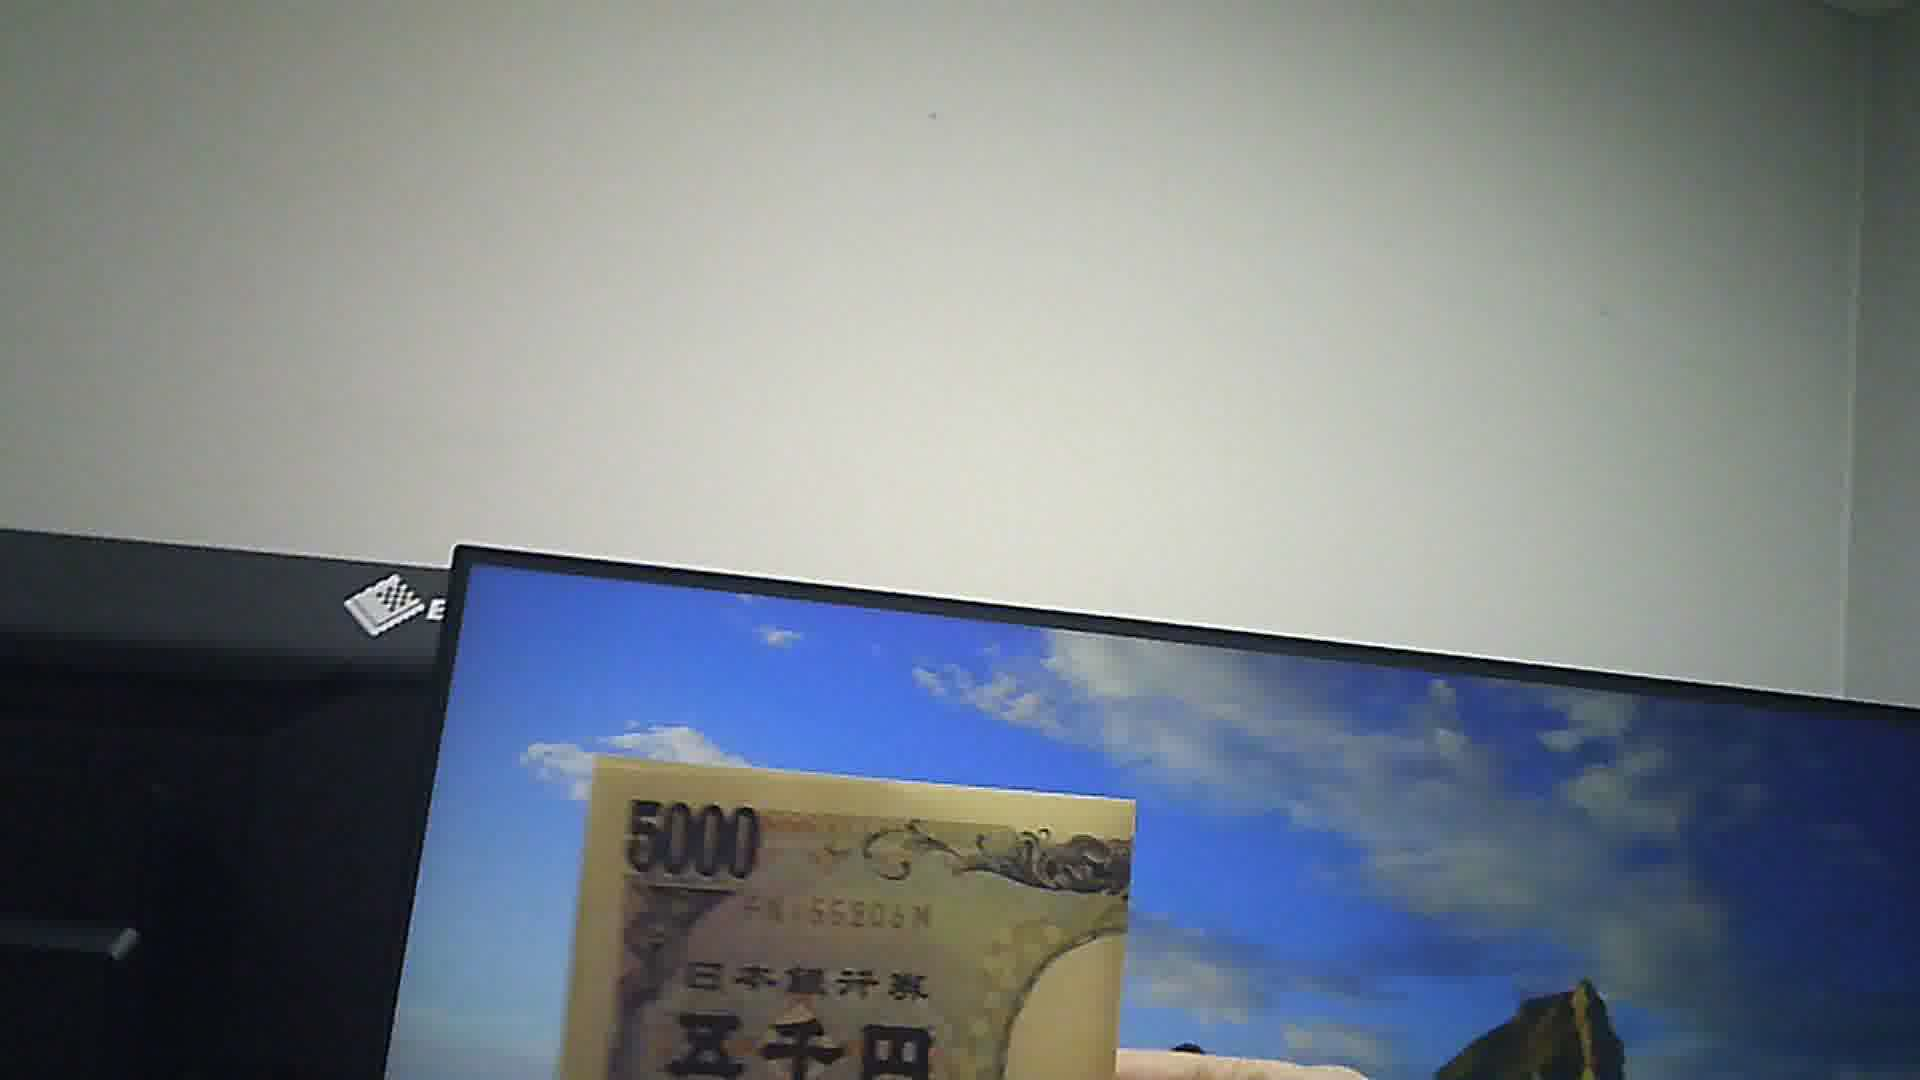5,000 Yen: (560, 746, 1143, 1079)
